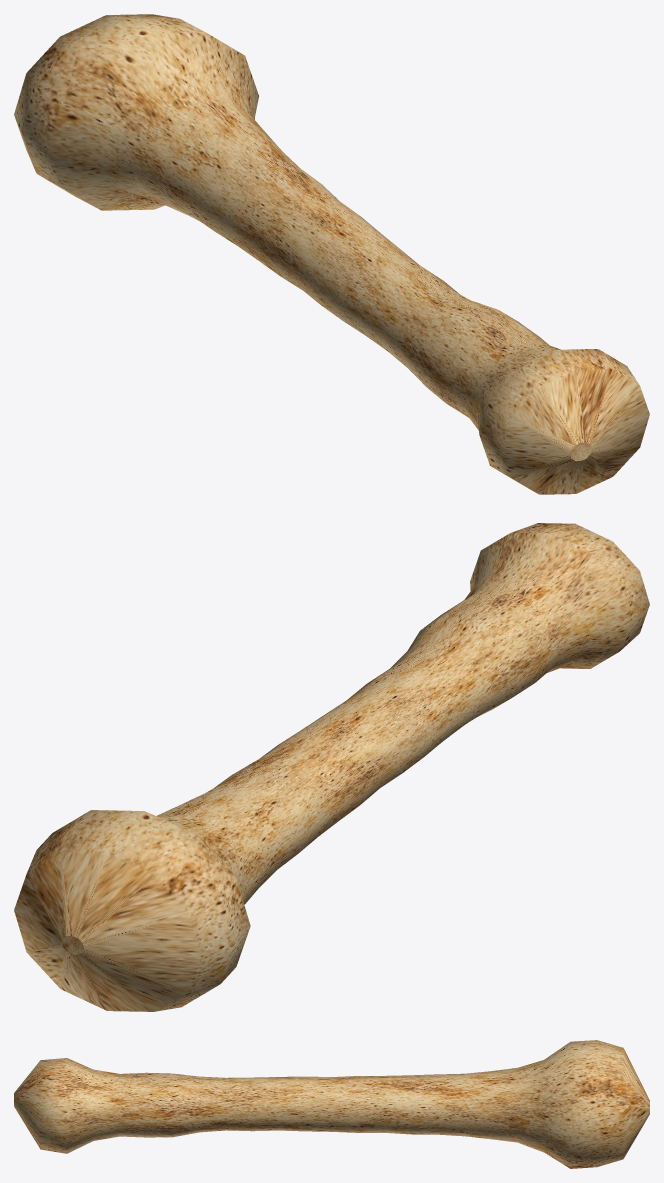
Rendered from item_6thybone.glb.
3 renders of one model, top to bottom at view 1: azimuth 30°, elevation 25°; view 2: azimuth 150°, elevation 25°; view 3: azimuth 270°, elevation 25°, orthographic. The views are drawn at different scales.
Parts seen in each view (by area): view 1: 6thybone; view 2: 6thybone; view 3: 6thybone.
Part boxes in pixels (x1,y1,x2,y2): 6thybone: [14, 14, 649, 494]; 6thybone: [14, 523, 649, 1011]; 6thybone: [14, 1040, 649, 1168].
Size of the model in its own units: 0.4894 by 0.3814 by 2.
Materials: 1 (1 with a texture image).
